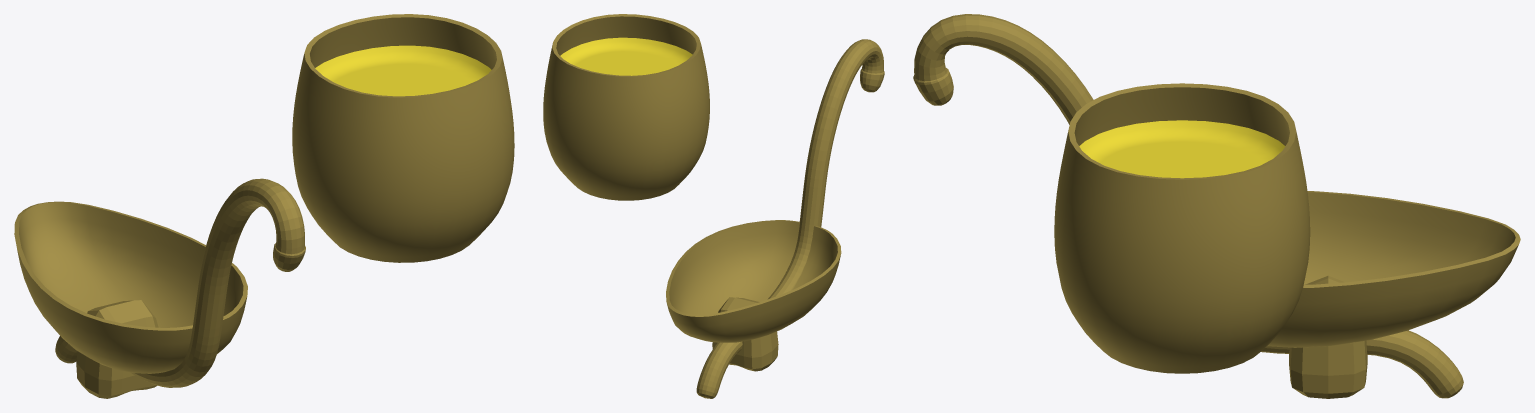
The model's file is Diya.fbx.
3 renders of one model, left to right at view 1: azimuth 30°, elevation 25°; view 2: azimuth 150°, elevation 25°; view 3: azimuth 270°, elevation 25°, orthographic. The views are drawn at different scales.
Visible parts, largest first — view 1: PRP_Oil_Bowl, PRP_Lamp; view 2: PRP_Oil_Bowl, PRP_Lamp; view 3: PRP_Oil_Bowl, PRP_Lamp.
Part boxes in pixels (x1,y1,x2,y2): PRP_Oil_Bowl: [292, 14, 514, 262]; PRP_Lamp: [14, 178, 305, 398]; PRP_Oil_Bowl: [543, 14, 709, 200]; PRP_Lamp: [666, 39, 884, 398]; PRP_Oil_Bowl: [1054, 83, 1310, 373]; PRP_Lamp: [913, 14, 1520, 398].
Bounding box in the file's own units: 20.14 × 16.02 × 22.56.
